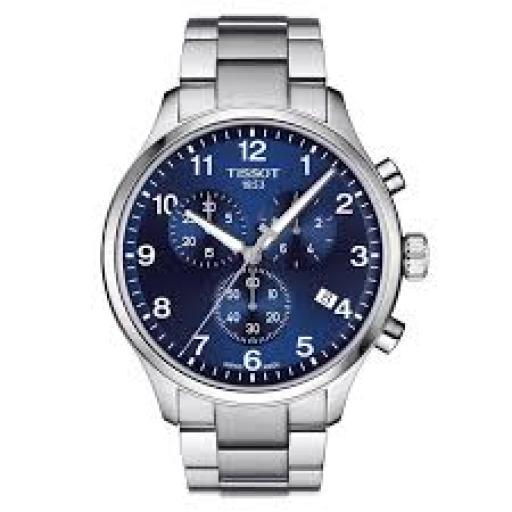KolSaati: (68, 6, 440, 512)
